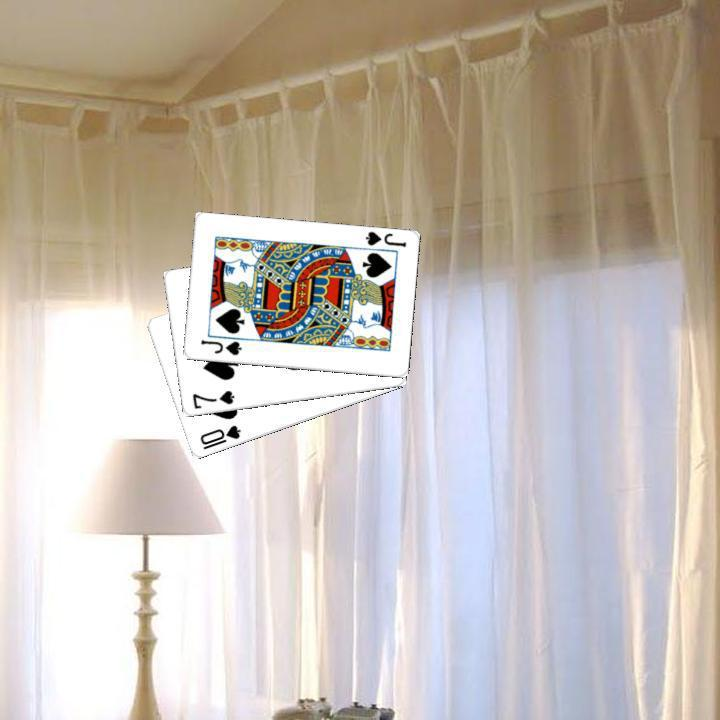10: (195, 421, 243, 452)
7: (188, 387, 236, 411)
J: (196, 336, 243, 358), (361, 228, 408, 249)
